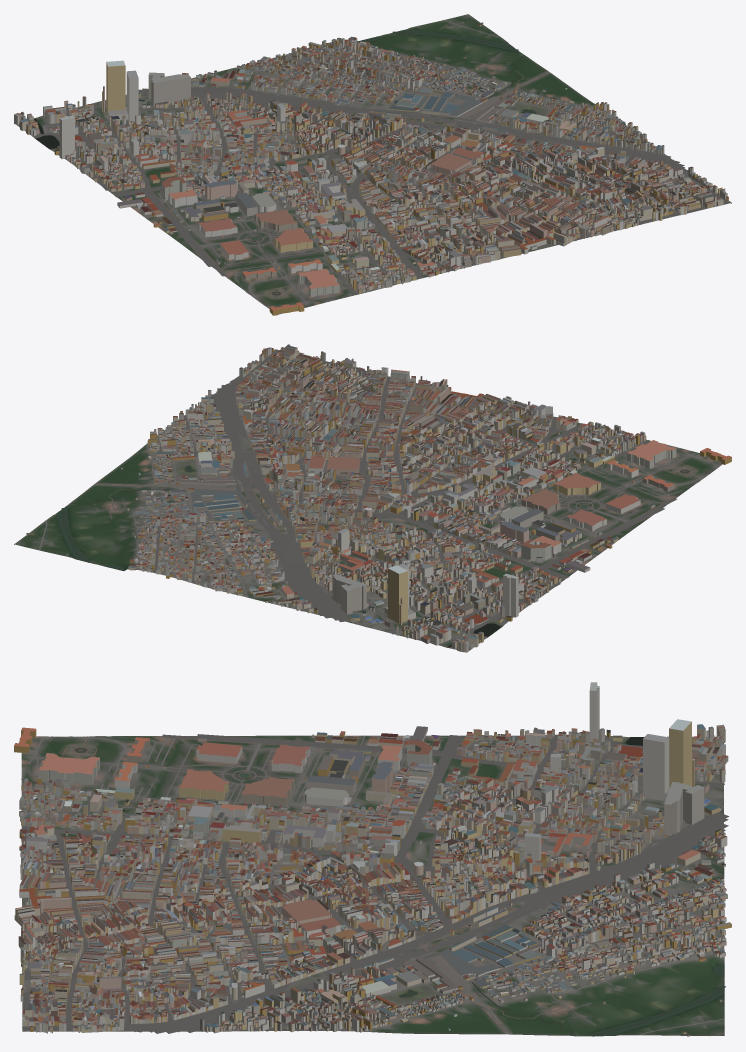
The picture shows the model from 3 angles, top to bottom: view 1: azimuth 30°, elevation 25°; view 2: azimuth 150°, elevation 25°; view 3: azimuth 270°, elevation 25°; orthographic projection. The views are drawn at different scales.
Visible parts, largest first — view 1: buildings, ground, roads, water; view 2: buildings, ground, roads, water; view 3: buildings, ground, roads, water.
Part boxes in pixels (x1=…): buildings: x1=14, y1=22, x2=728, y2=315; ground: x1=14, y1=14, x2=731, y2=314; roads: x1=17, y1=15, x2=730, y2=307; water: x1=34, y1=29, x2=535, y2=295; buildings: x1=26, y1=344, x2=731, y2=652; ground: x1=14, y1=349, x2=722, y2=651; roads: x1=18, y1=349, x2=722, y2=649; water: x1=56, y1=458, x2=689, y2=647; buildings: x1=14, y1=682, x2=731, y2=1036; ground: x1=21, y1=734, x2=724, y2=1036; roads: x1=20, y1=734, x2=729, y2=1035; water: x1=74, y1=737, x2=725, y2=1036.
Bounding box in the file's own units: 1440 × 159 × 1433.
